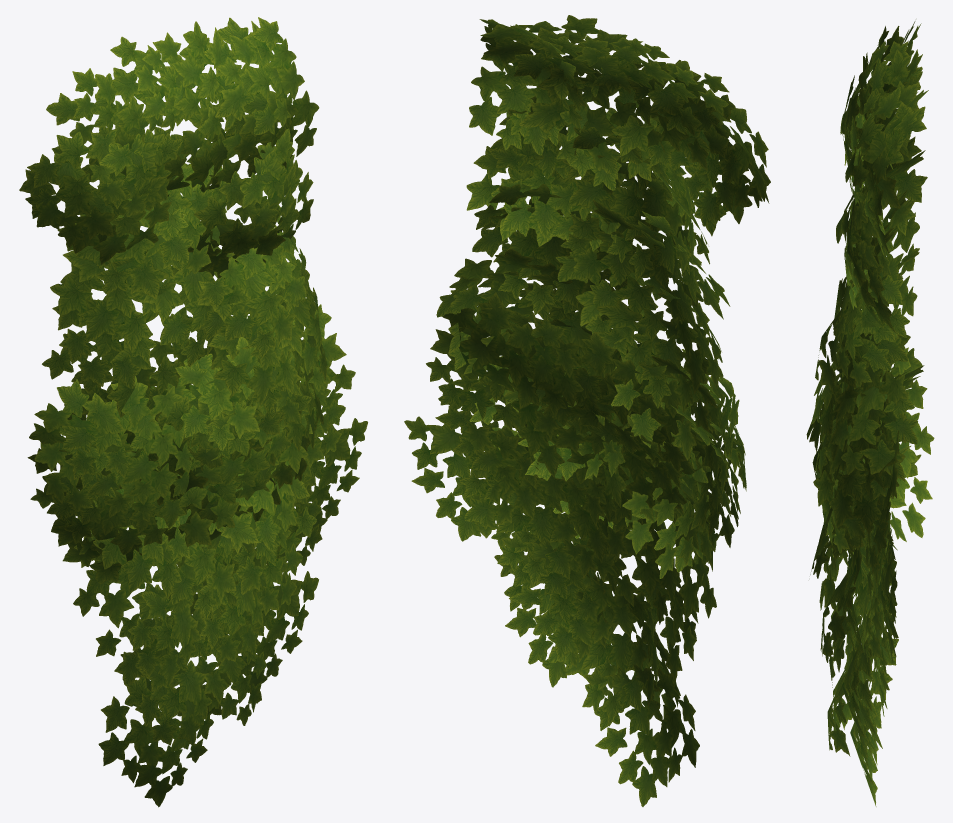
Rendered from SM_fwOF_IvyGroup_01.fbx.
3 renders of one model, left to right at view 1: azimuth 30°, elevation 25°; view 2: azimuth 150°, elevation 25°; view 3: azimuth 270°, elevation 25°, orthographic. The views are drawn at different scales.
Visible parts, largest first — view 1: SM_fwOF_IvyGroup_01_LOD0; view 2: SM_fwOF_IvyGroup_01_LOD0; view 3: SM_fwOF_IvyGroup_01_LOD0.
Part boxes in pixels (x1,y1,x2,y2): SM_fwOF_IvyGroup_01_LOD0: (19,17,367,807); SM_fwOF_IvyGroup_01_LOD0: (404,15,770,806); SM_fwOF_IvyGroup_01_LOD0: (806,21,934,806).
Size of what is drawn, in the model's own units: 1.92 by 3.96 by 0.6282.
